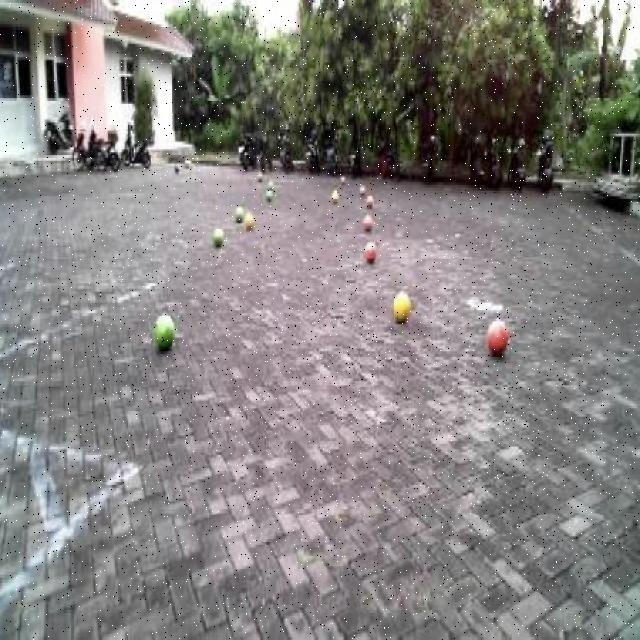buoy: (484, 307, 514, 360), (149, 305, 177, 351), (392, 284, 412, 323)
